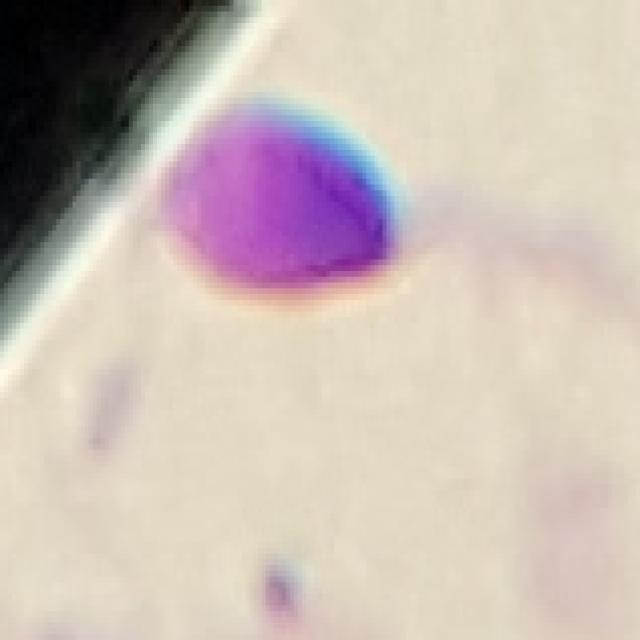normal sperm: (160, 90, 532, 302)
